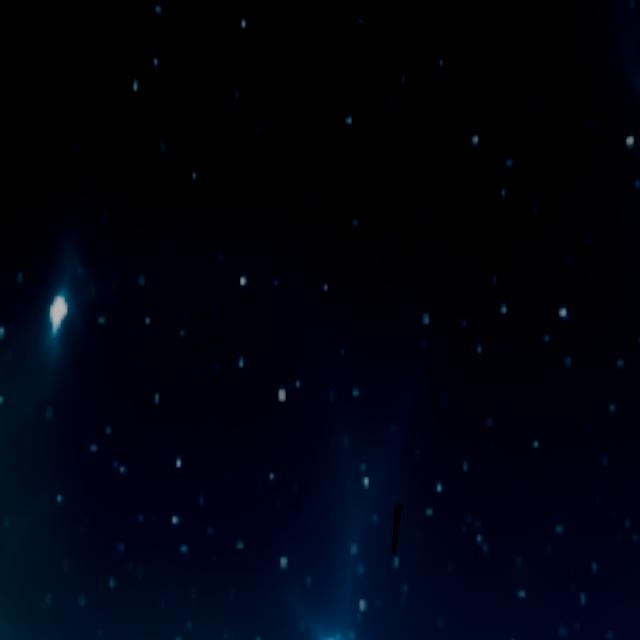large_debris: (390, 501, 404, 564)
